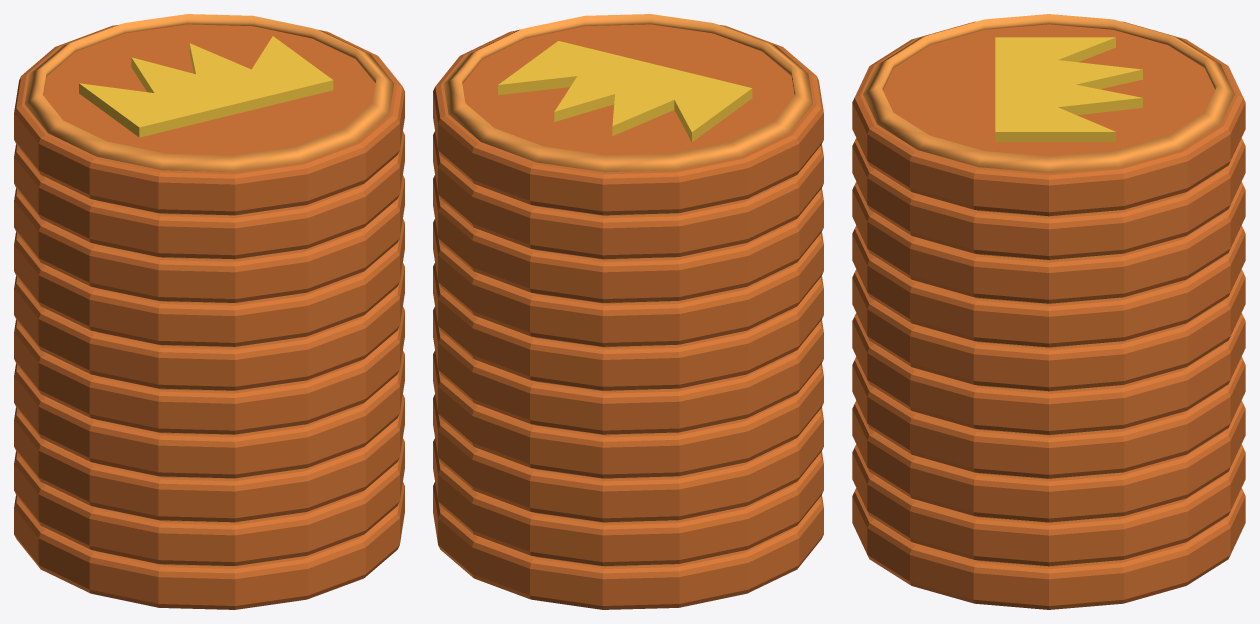
Rendered from CoinStack_10.fbx.
3 renders of one model, left to right at view 1: azimuth 30°, elevation 25°; view 2: azimuth 150°, elevation 25°; view 3: azimuth 270°, elevation 25°, orthographic.
Visible parts, largest first — view 1: Coin_Stack10_10_Core, Coin_Stack10_07_Core, Coin_Stack10_02_Core, Coin_Stack10_09_Core, Coin_Stack10_05_Core, Coin_Stack10_08_Core, Coin_Stack10_04_Core, Coin_Stack10_06_Core, Coin_Stack10_01_Core, Coin_Stack10_03_Core, Coin_Crown_Relief.003, Coin_Stack10_10_Rim; view 2: Coin_Stack10_10_Core, Coin_Stack10_07_Core, Coin_Stack10_02_Core, Coin_Stack10_09_Core, Coin_Stack10_05_Core, Coin_Stack10_08_Core, Coin_Stack10_04_Core, Coin_Stack10_06_Core, Coin_Stack10_01_Core, Coin_Stack10_03_Core, Coin_Crown_Relief.003, Coin_Stack10_10_Rim; view 3: Coin_Stack10_10_Core, Coin_Stack10_03_Core, Coin_Stack10_02_Core, Coin_Stack10_06_Core, Coin_Stack10_07_Core, Coin_Stack10_05_Core, Coin_Stack10_01_Core, Coin_Stack10_04_Core, Coin_Stack10_08_Core, Coin_Stack10_09_Core, Coin_Crown_Relief.003, Coin_Stack10_10_Rim.
Boxes of the visible parts, x1,y1,x2,y2 form: Coin_Stack10_10_Core: (14,24,404,215); Coin_Stack10_07_Core: (14,219,404,346); Coin_Stack10_02_Core: (14,438,404,565); Coin_Stack10_09_Core: (14,131,404,259); Coin_Stack10_05_Core: (14,307,404,434); Coin_Stack10_08_Core: (14,175,404,302); Coin_Stack10_04_Core: (14,351,404,478); Coin_Stack10_06_Core: (14,263,404,390); Coin_Stack10_01_Core: (14,482,404,609); Coin_Stack10_03_Core: (14,394,404,522); Coin_Crown_Relief.003: (79,36,333,137); Coin_Stack10_10_Rim: (25,14,394,172); Coin_Stack10_10_Core: (433,24,823,215); Coin_Stack10_07_Core: (433,219,823,346); Coin_Stack10_02_Core: (433,438,823,565); Coin_Stack10_09_Core: (433,131,823,259); Coin_Stack10_05_Core: (433,307,823,434); Coin_Stack10_08_Core: (433,175,823,302); Coin_Stack10_04_Core: (433,351,823,478); Coin_Stack10_06_Core: (433,263,823,390); Coin_Stack10_01_Core: (433,482,823,609); Coin_Stack10_03_Core: (433,394,823,522); Coin_Crown_Relief.003: (498,41,752,141); Coin_Stack10_10_Rim: (443,14,812,172); Coin_Stack10_10_Core: (852,21,1245,216); Coin_Stack10_03_Core: (852,400,1245,522); Coin_Stack10_02_Core: (852,444,1245,566); Coin_Stack10_06_Core: (852,269,1245,391); Coin_Stack10_07_Core: (852,225,1245,347); Coin_Stack10_05_Core: (852,313,1245,434); Coin_Stack10_01_Core: (852,488,1245,609); Coin_Stack10_04_Core: (852,357,1245,478); Coin_Stack10_08_Core: (852,182,1245,303); Coin_Stack10_09_Core: (852,138,1245,259); Coin_Crown_Relief.003: (995,37,1142,141); Coin_Stack10_10_Rim: (863,14,1234,172).
Size of the model in its own units: 0.88 by 1.1 by 0.88.
